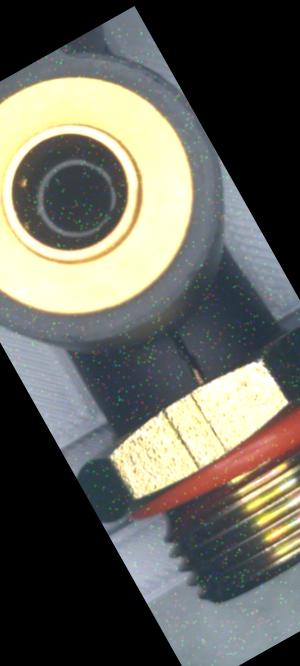craze: (157, 320, 216, 392)
